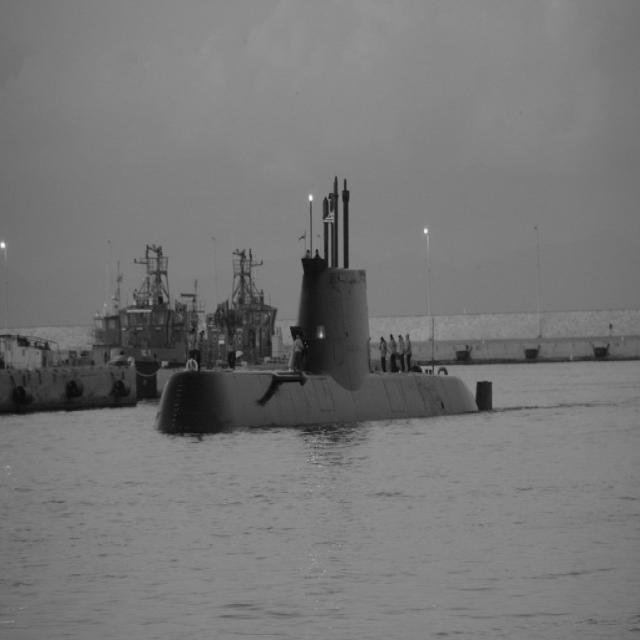submarine: (159, 173, 498, 439)
